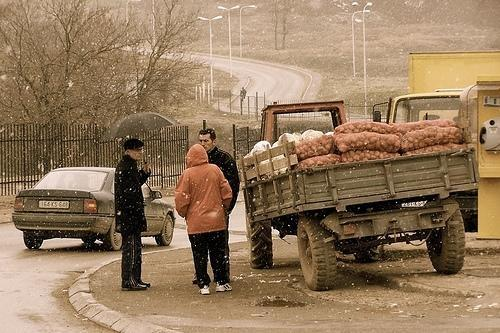car: (14, 166, 177, 251)
motorcycle: (240, 92, 244, 100)
truck: (240, 98, 480, 292), (370, 49, 500, 245)
